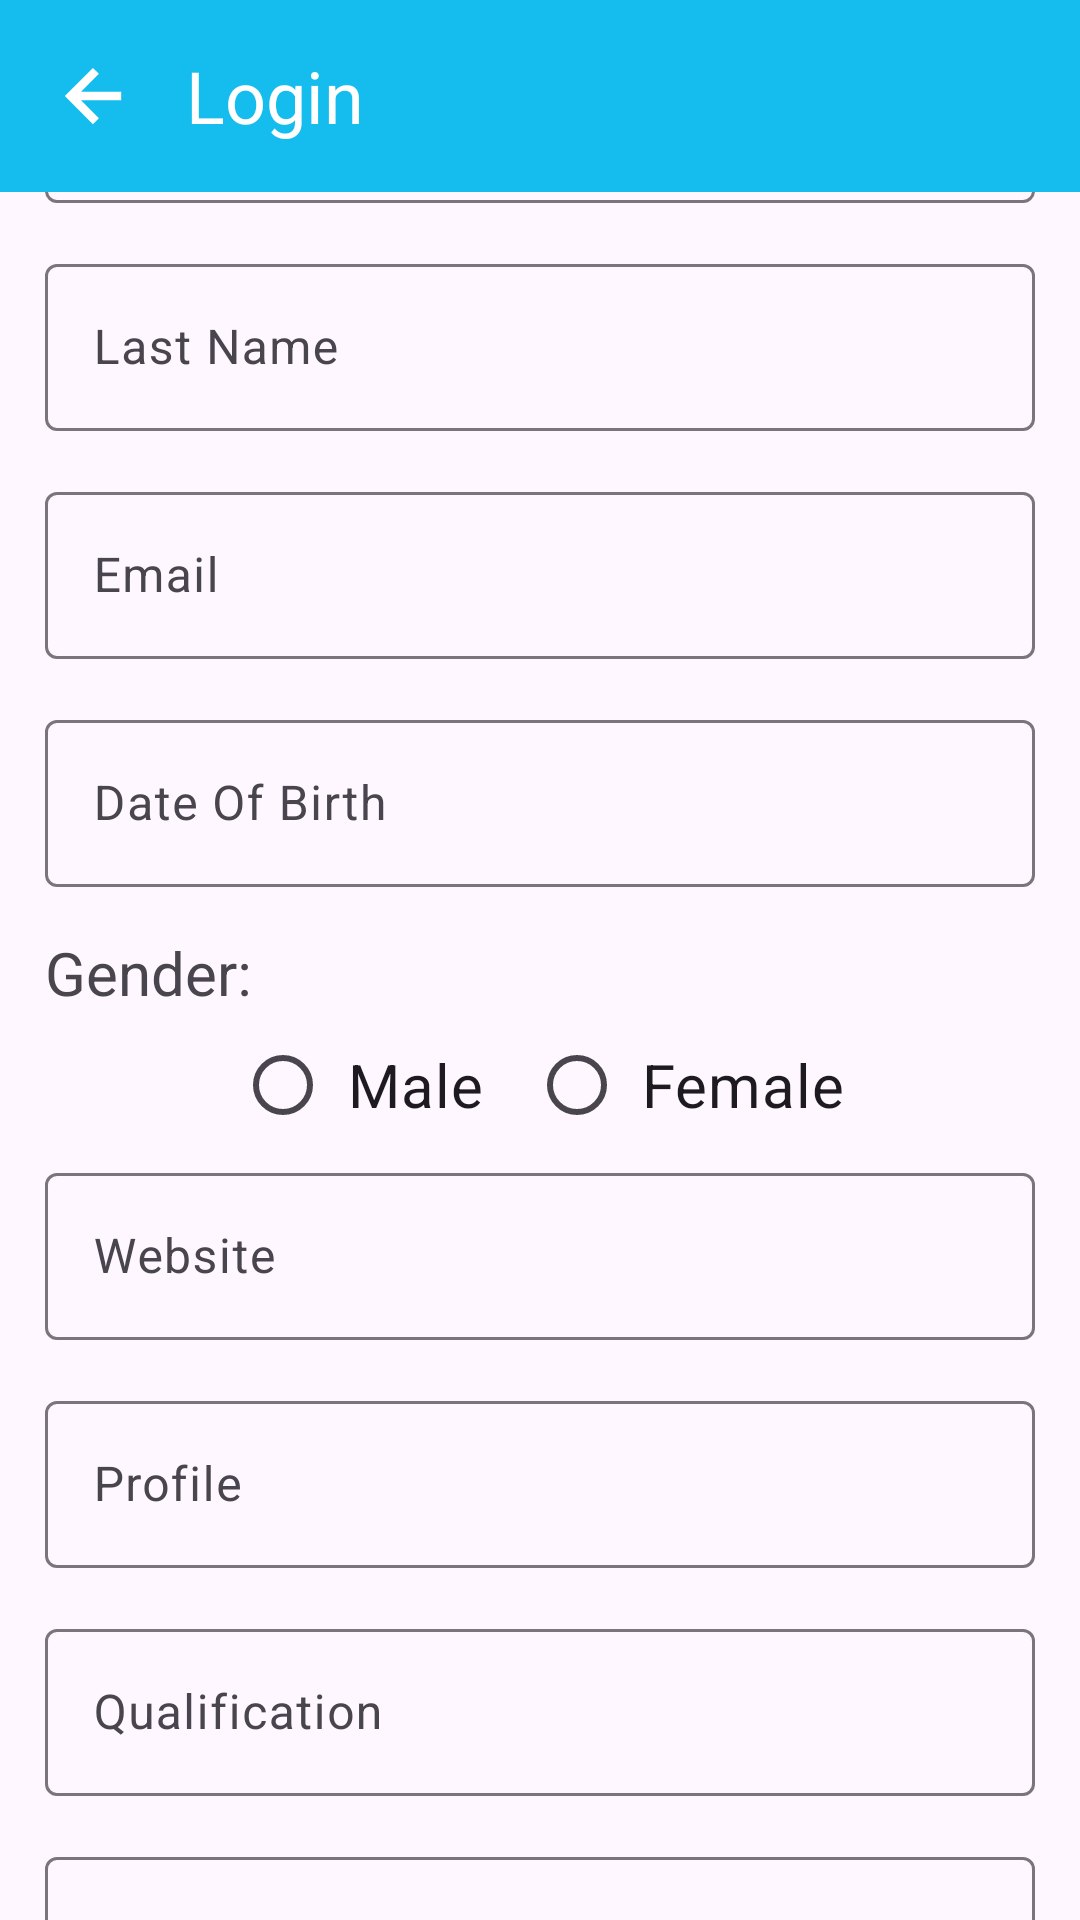

Screen size 1080px x 1920px. Icon name, then its center in pixels as point (x, y):
back: point (93, 96)
